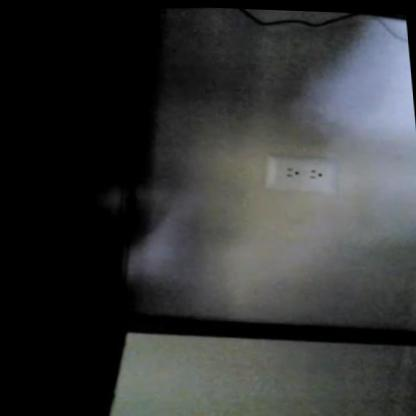OUTLET: (260, 150, 341, 198)
